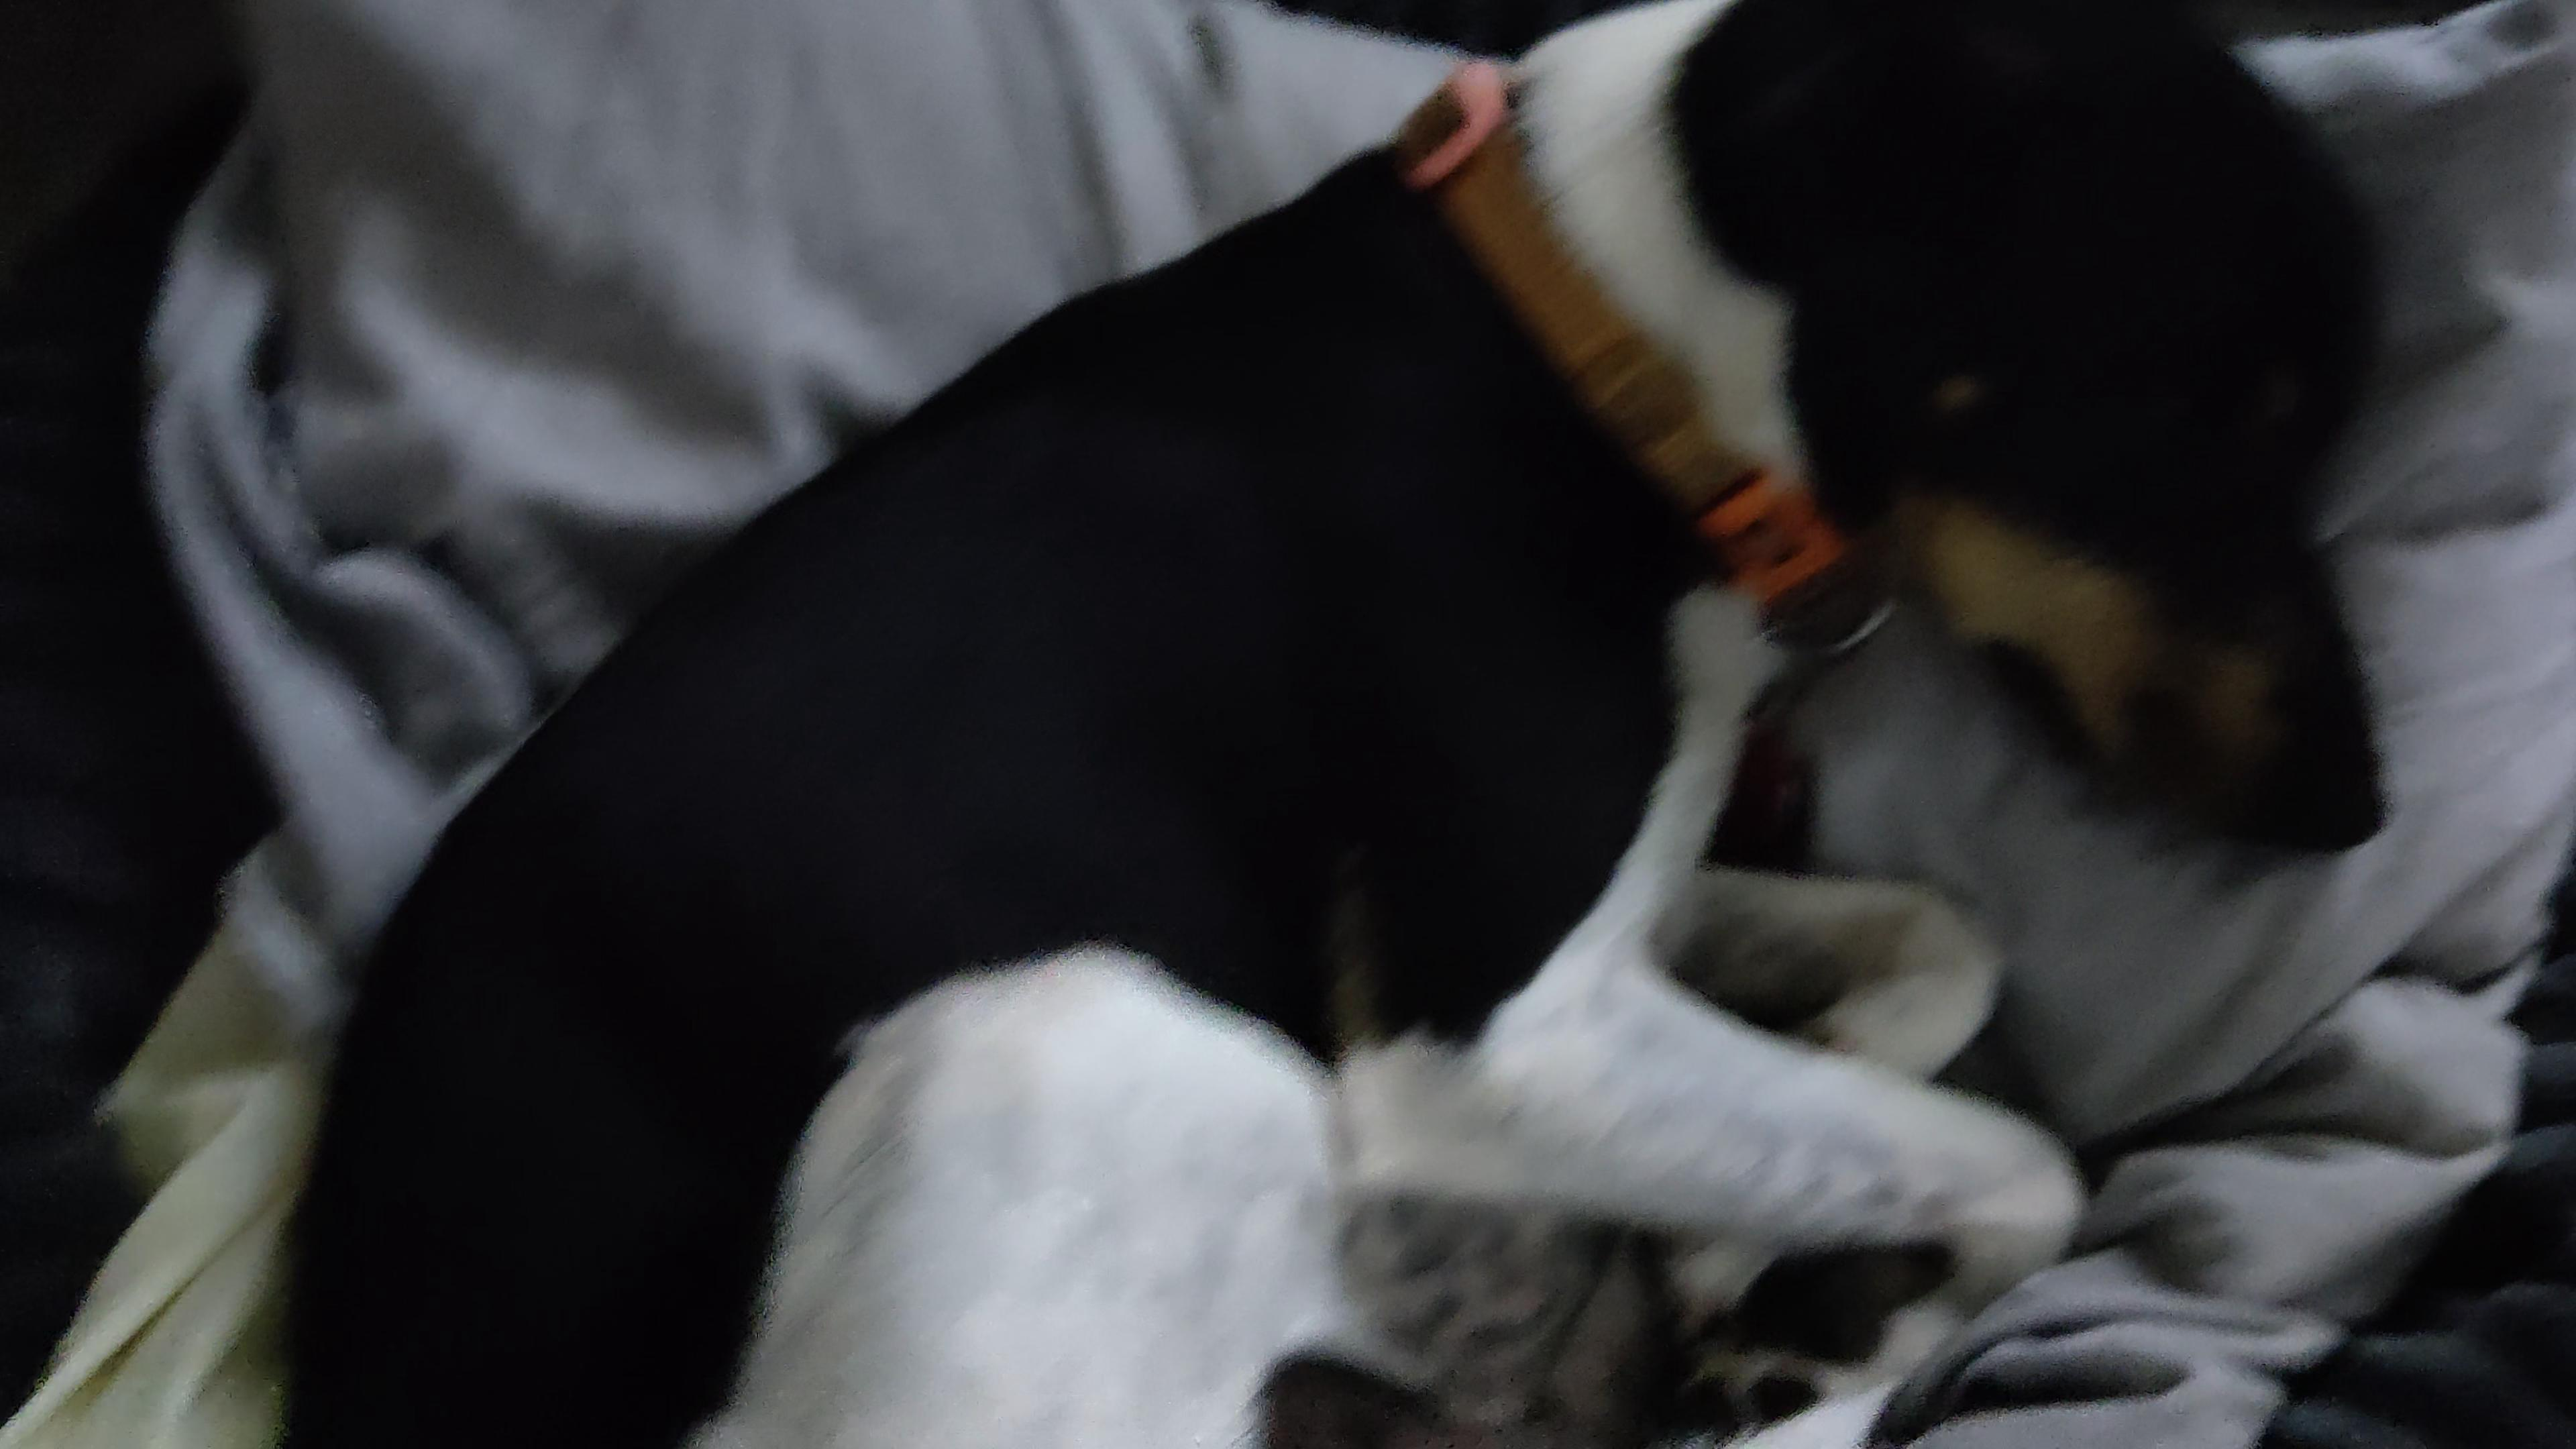Dog: (241, 0, 2426, 1449)
